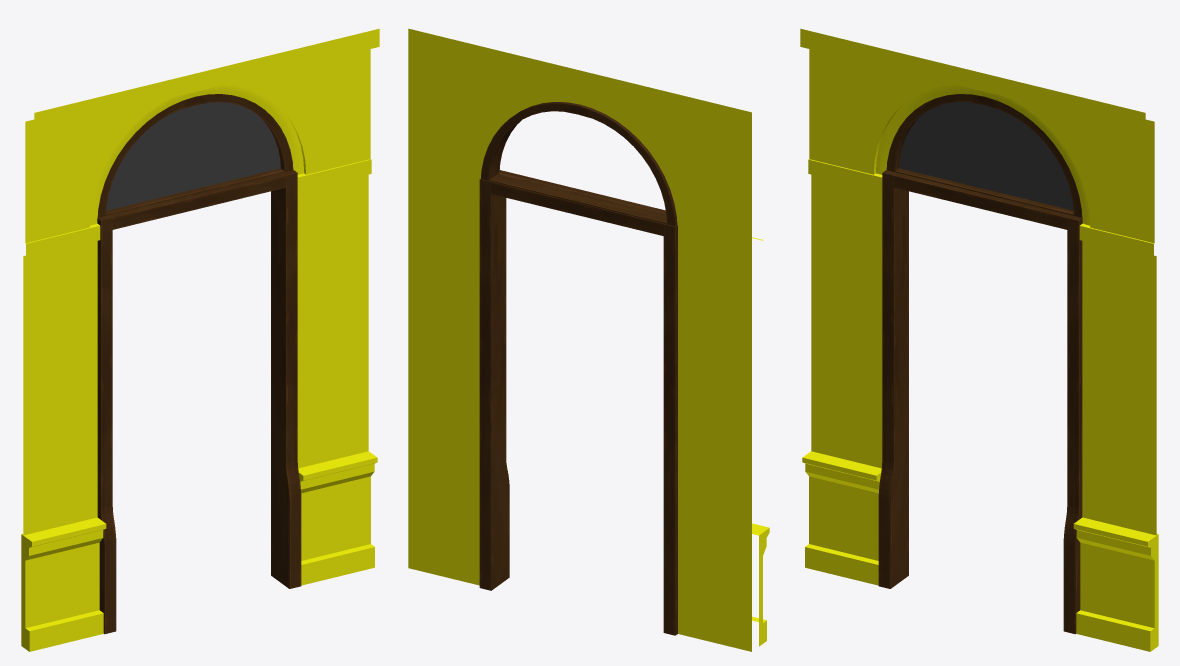
Rendered from doorframe-trim.glb.
The picture shows the model from 3 angles, left to right: view 1: azimuth 30°, elevation 25°; view 2: azimuth 150°, elevation 25°; view 3: azimuth 330°, elevation 25°; orthographic projection.
Parts seen in each view (by area): view 1: DoorFrame_Trim; view 2: DoorFrame_Trim; view 3: DoorFrame_Trim.
Boxes of the visible parts, bbox=[...] form: DoorFrame_Trim: bbox=[21, 28, 379, 651]; DoorFrame_Trim: bbox=[408, 28, 769, 651]; DoorFrame_Trim: bbox=[800, 28, 1158, 651].
Bounding box in the file's own units: 2 × 3 × 0.2256.
Materials: 3 (1 with a texture image).
